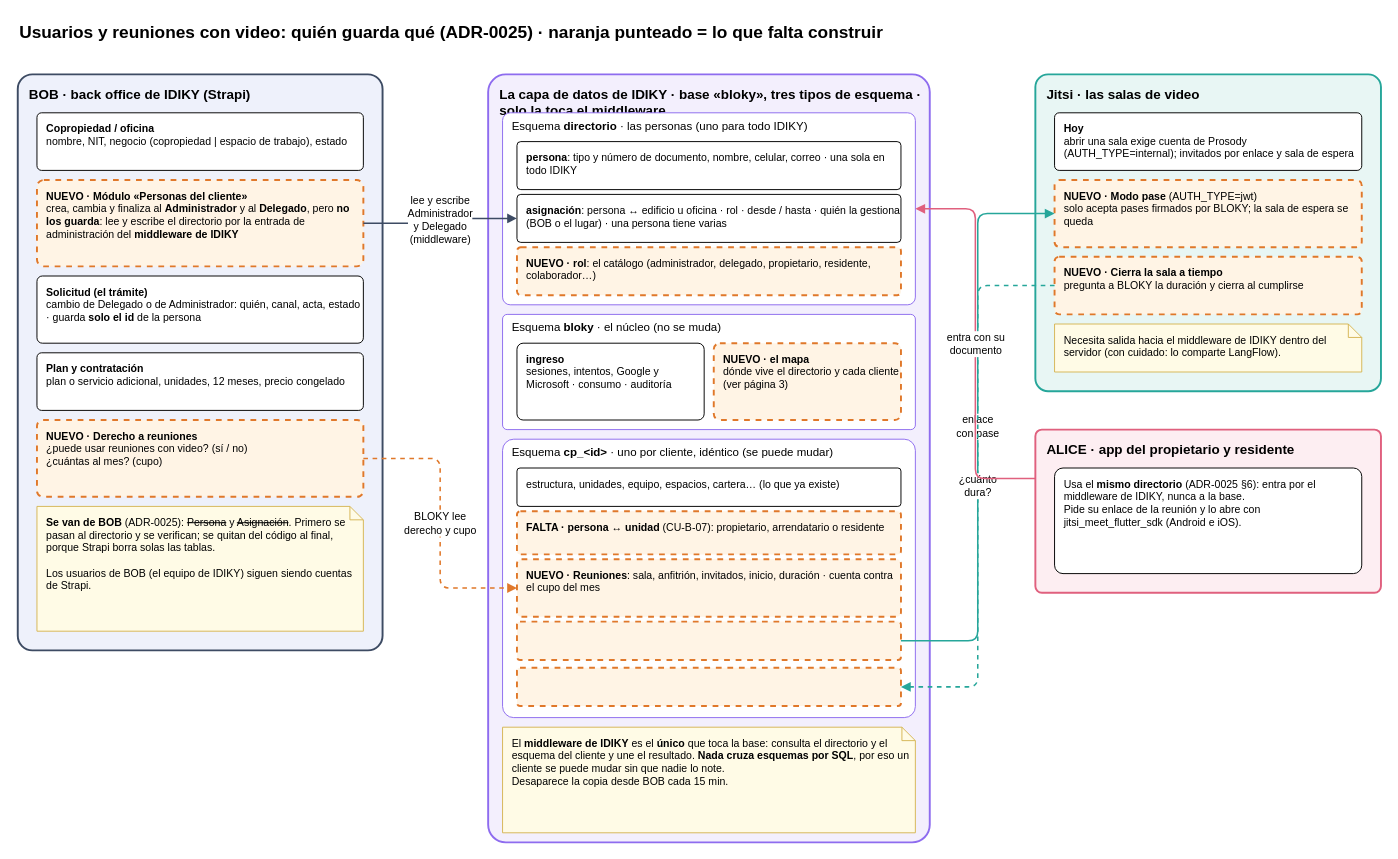
The diagram is 1398 pixels wide and 859 high, and some of its shapes have lost their labels. The centre of each missing label's shape, as x and y in pixels:
NUEVO · firma el pase (JWT) y entrega el enlace: the point at 708,640
NUEVO · responde a Jitsi cuánto dura la sala: the point at 708,686
